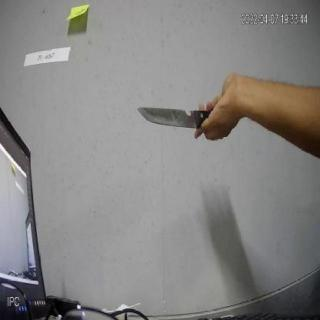knife: (124, 89, 216, 139)
